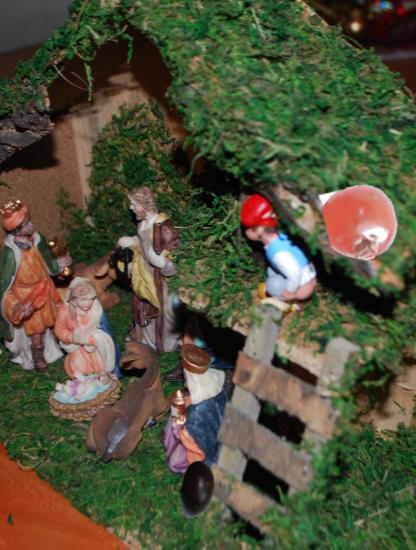Eggplant: (166, 460, 228, 522)
Redcurrant: (324, 185, 399, 260)
